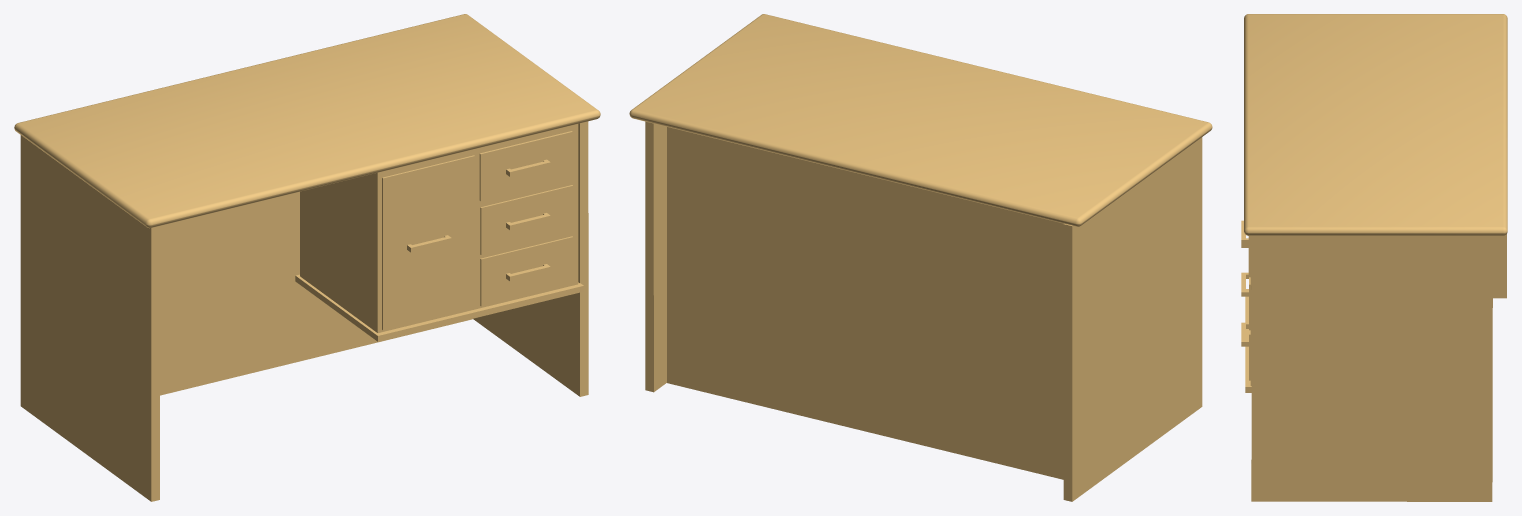
Rendered from table.fbx.
3 renders of one model, left to right at view 1: azimuth 30°, elevation 25°; view 2: azimuth 150°, elevation 25°; view 3: azimuth 270°, elevation 25°, orthographic. The views are drawn at different scales.
Visible parts, largest first — view 1: Box24.001; view 2: Box24.001; view 3: Box24.001.
Part boxes in pixels (box(x1,y1,x2,y2)): Box24.001: box(14, 14, 600, 501); Box24.001: box(629, 14, 1212, 501); Box24.001: box(1241, 14, 1507, 501).
Bounding box in the file's own units: 120 × 71.86 × 62.41.
